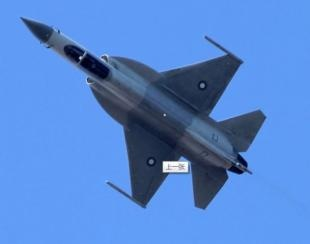airplane: (19, 15, 273, 203)
